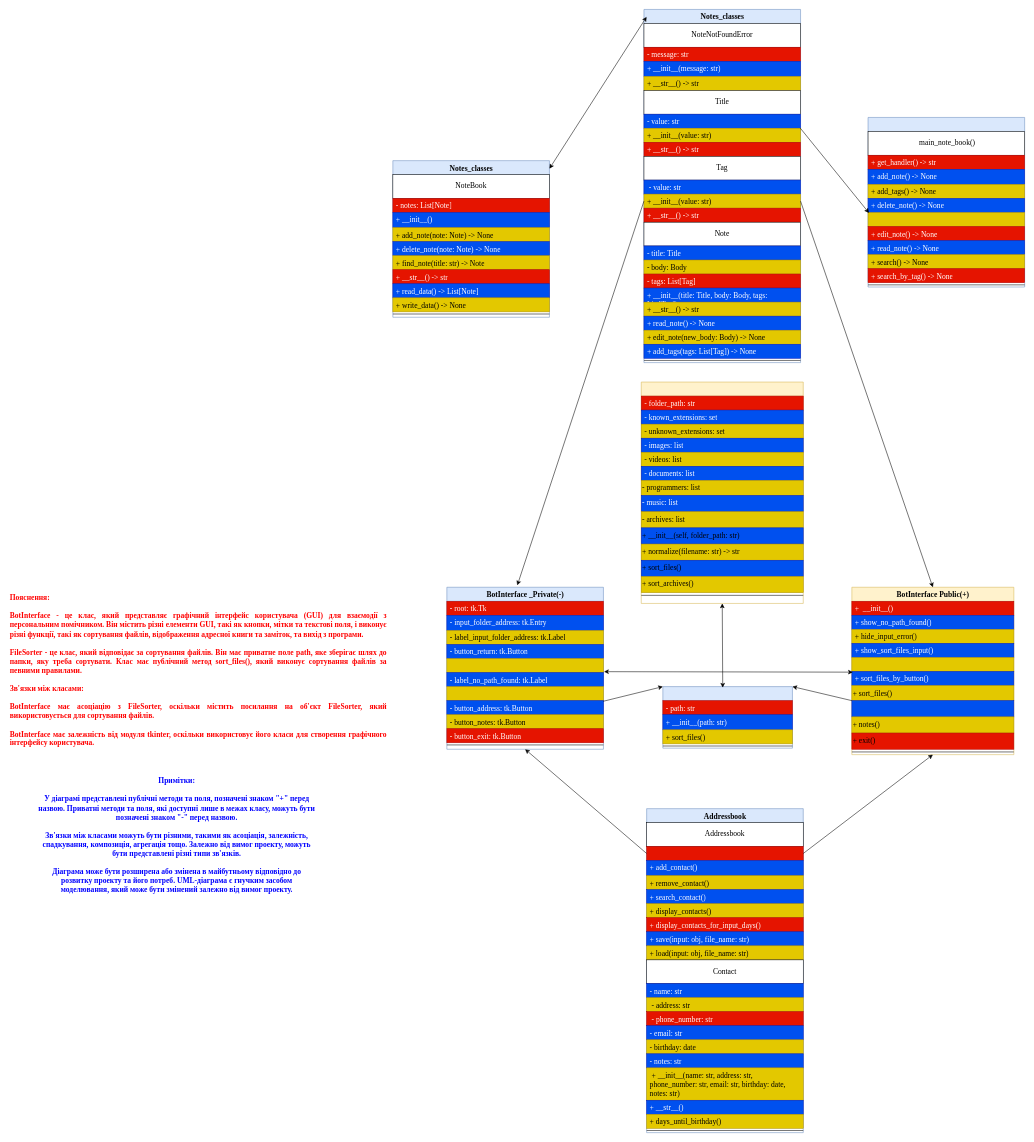
Some shapes in this 1034 by 1142 pixel diagram are drawn without their labels. The shapes that lost their labels are listed below. From the top down, each one's box as (x1, y1, x2, y2) in pixels, then its label:
(868, 117, 1025, 287): Notes_main
(868, 212, 1025, 227): + display_all_notes(*args) -> None
(641, 382, 803, 603): FileSorter Public(+)_Private(-)
(446, 658, 603, 673): - button_sort_files: tk.Button
(851, 657, 1014, 671): + return_to_menu()
(446, 686, 603, 701): - button_sort: tk.Button
(851, 700, 1014, 717): + address_book()
(662, 686, 792, 748): BotInterface_FileSorter
(646, 846, 803, 860): - contacts: list
